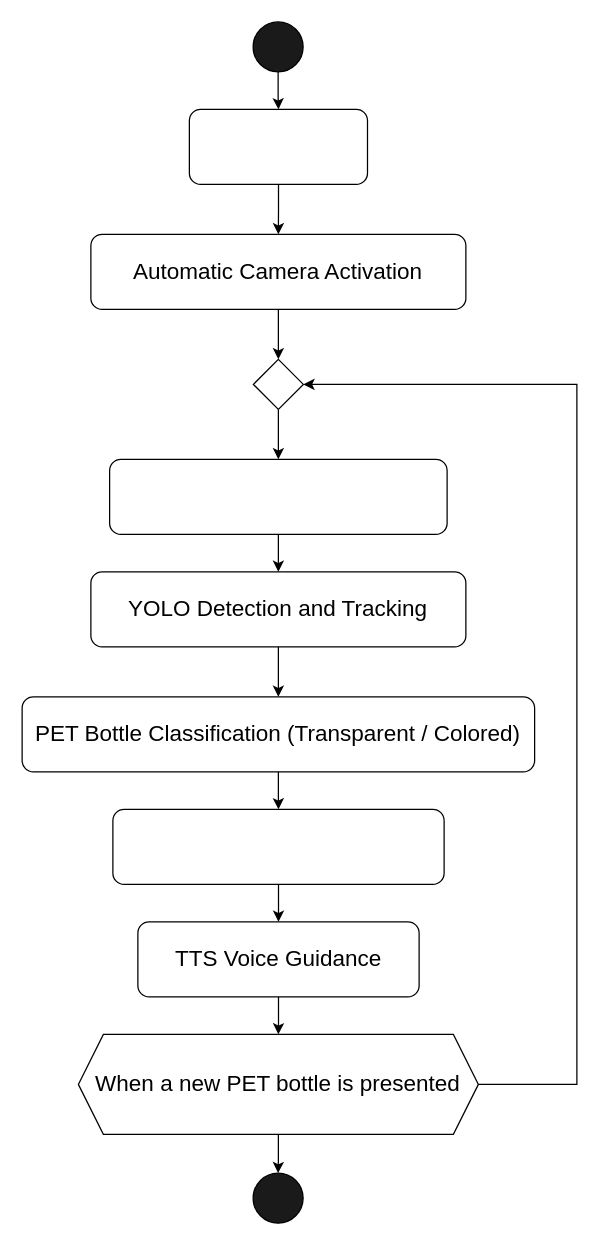
This 609x1245 diagram has some shape labels left out. The shapes that lost their labels are listed below. From the top down, each one's centre as x and y in pixels, then its label:
the point at 278,146: App Launch
the point at 277,496: User presents a PET bottle
the point at 278,846: Label Detection via OCR
